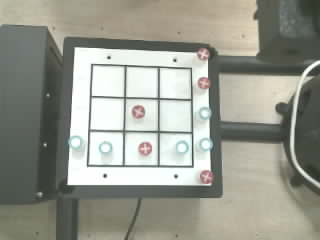blue circle: (68, 136, 82, 149), (176, 140, 188, 153), (99, 141, 112, 153), (200, 138, 212, 151), (199, 107, 211, 119)
board: (67, 46, 213, 186)
cells: (89, 132, 122, 164), (125, 133, 157, 165), (125, 99, 157, 130), (160, 134, 192, 165), (91, 98, 123, 129), (160, 100, 191, 131), (92, 66, 124, 96), (160, 68, 191, 98), (126, 67, 157, 97)
grid: (87, 64, 193, 167)
red cross: (132, 105, 145, 119), (200, 170, 213, 183), (138, 142, 151, 155), (198, 77, 211, 89), (197, 48, 209, 60)
